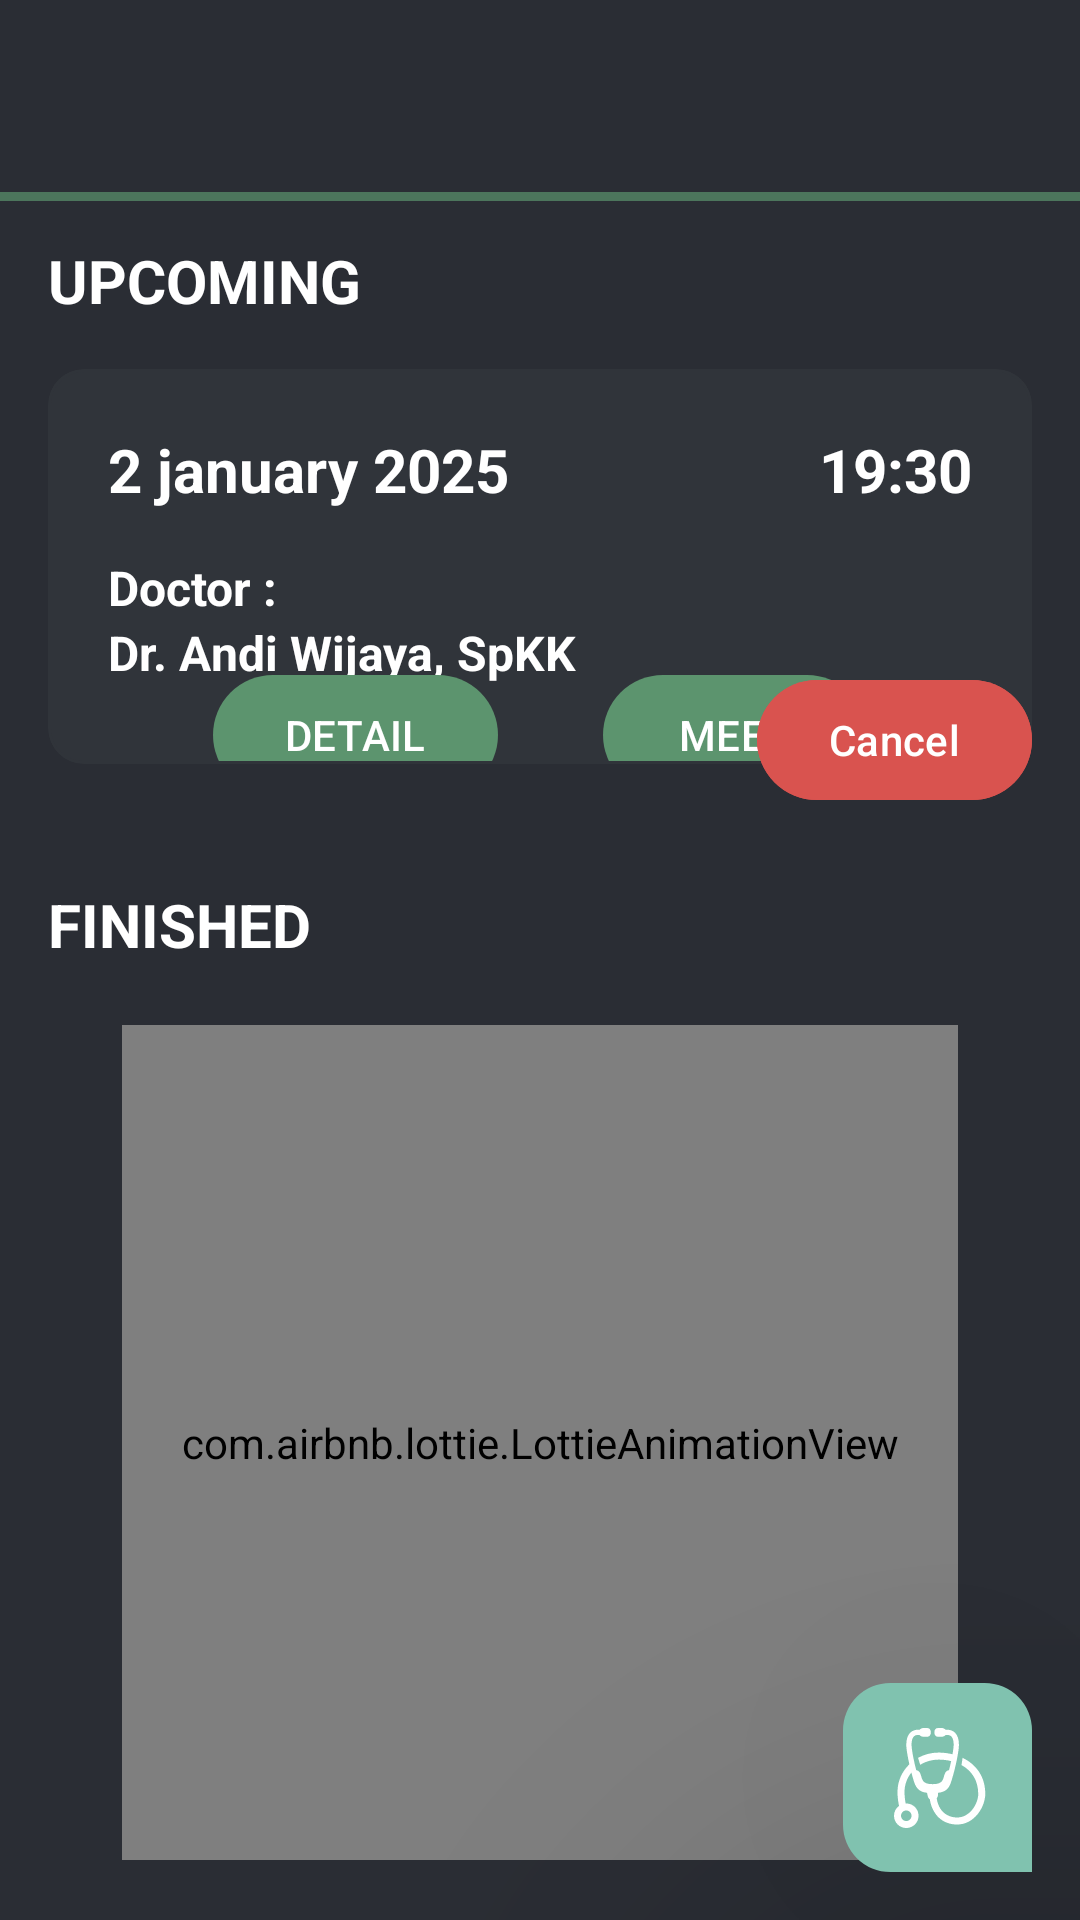

Named icons in this screenshot (1080 × 1920) and their centers, (x,y):
stethoscope: (937,1777)
